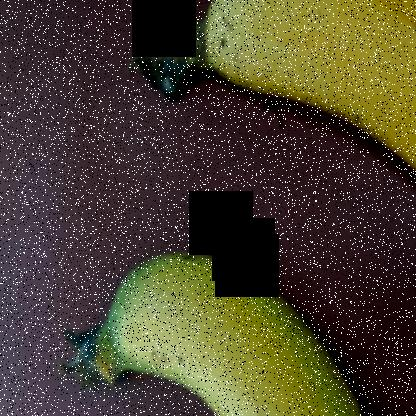freshripe: (158, 1, 415, 188), (90, 245, 370, 415)
